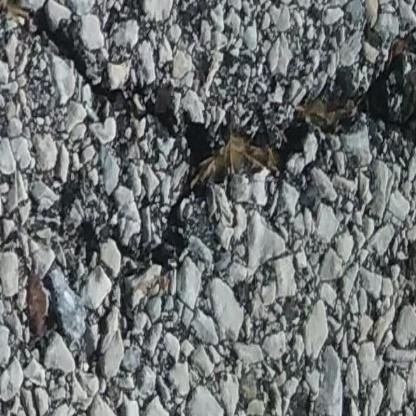Cracks: (181, 43, 416, 213), (0, 0, 108, 79)
